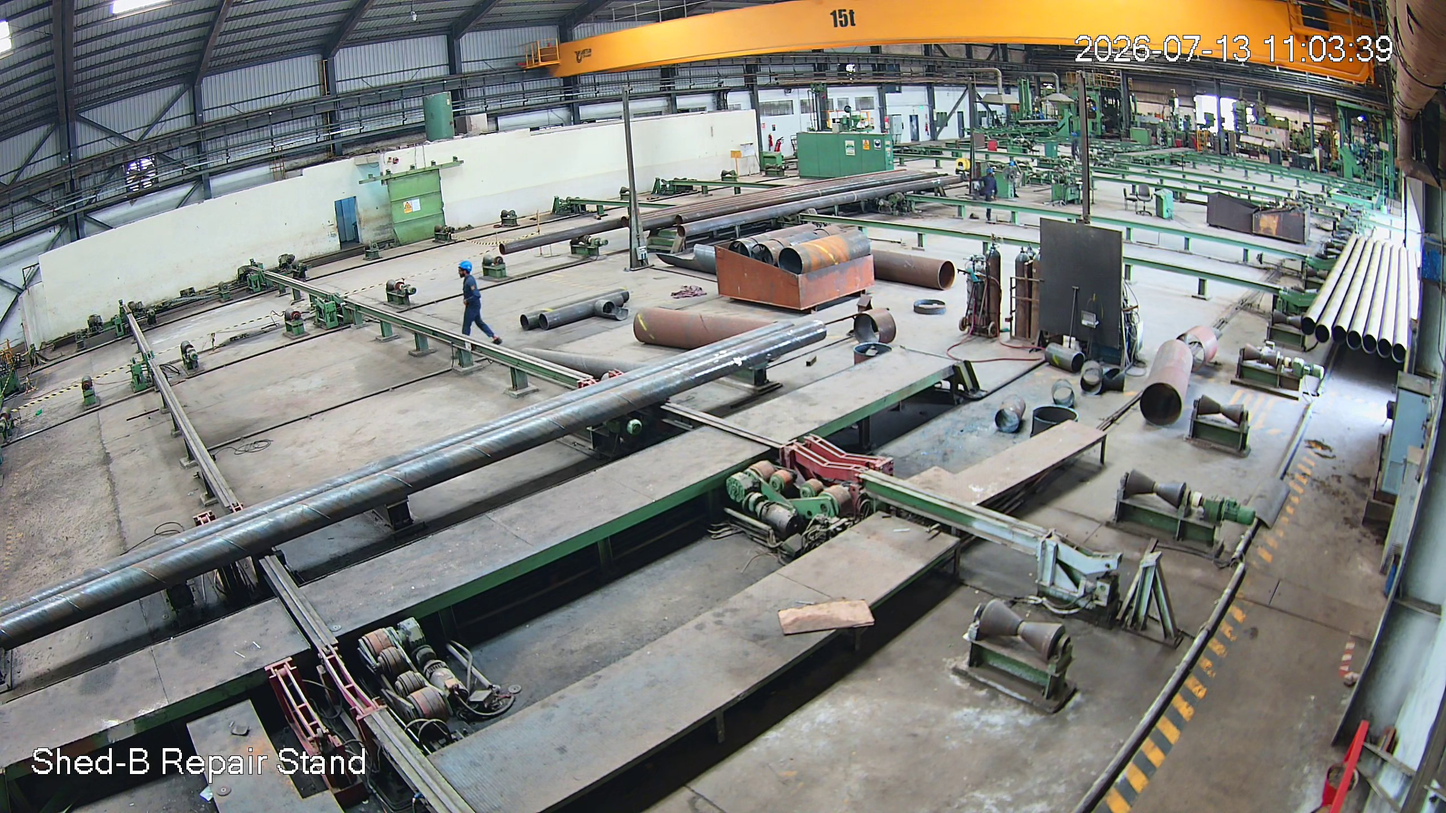Helmet: (458, 261, 474, 279)
Person: (452, 263, 496, 345)
